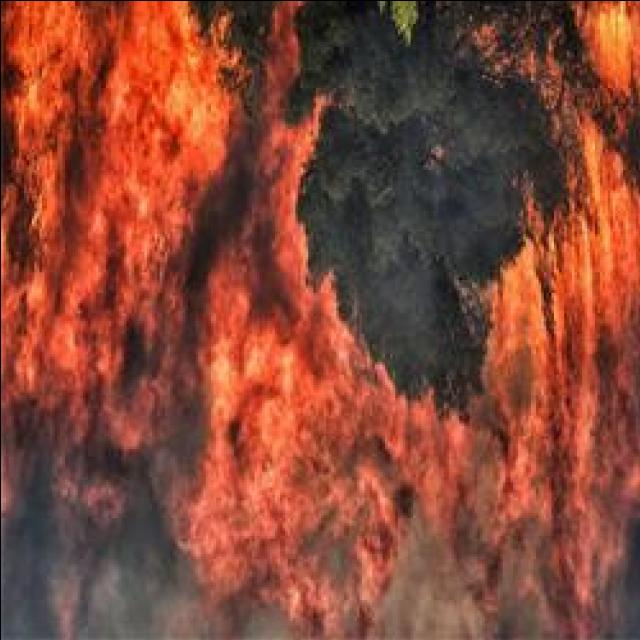fire: (130, 0, 194, 100), (581, 2, 639, 92), (18, 1, 70, 95), (598, 196, 638, 292), (169, 87, 221, 159)
smoke: (2, 482, 140, 640)
